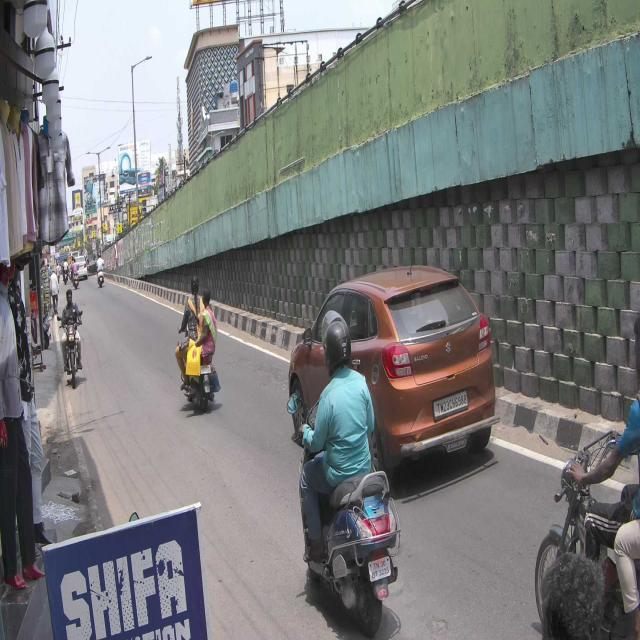double_rider: (175, 273, 221, 413)
single_rider: (296, 311, 400, 638)
